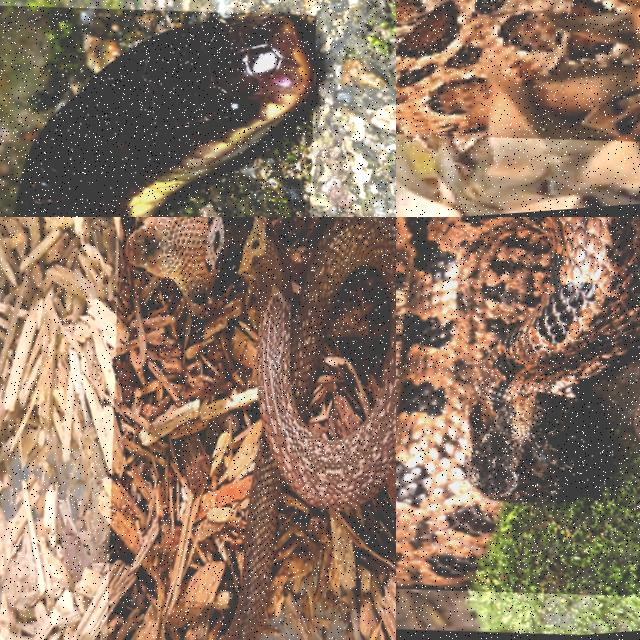Bungarus fasciatus: (15, 13, 314, 216)
Daboia siamensis: (396, 0, 626, 135)
Naja kaouthia: (126, 217, 395, 639)
Ovophis monticola: (396, 217, 639, 589)
